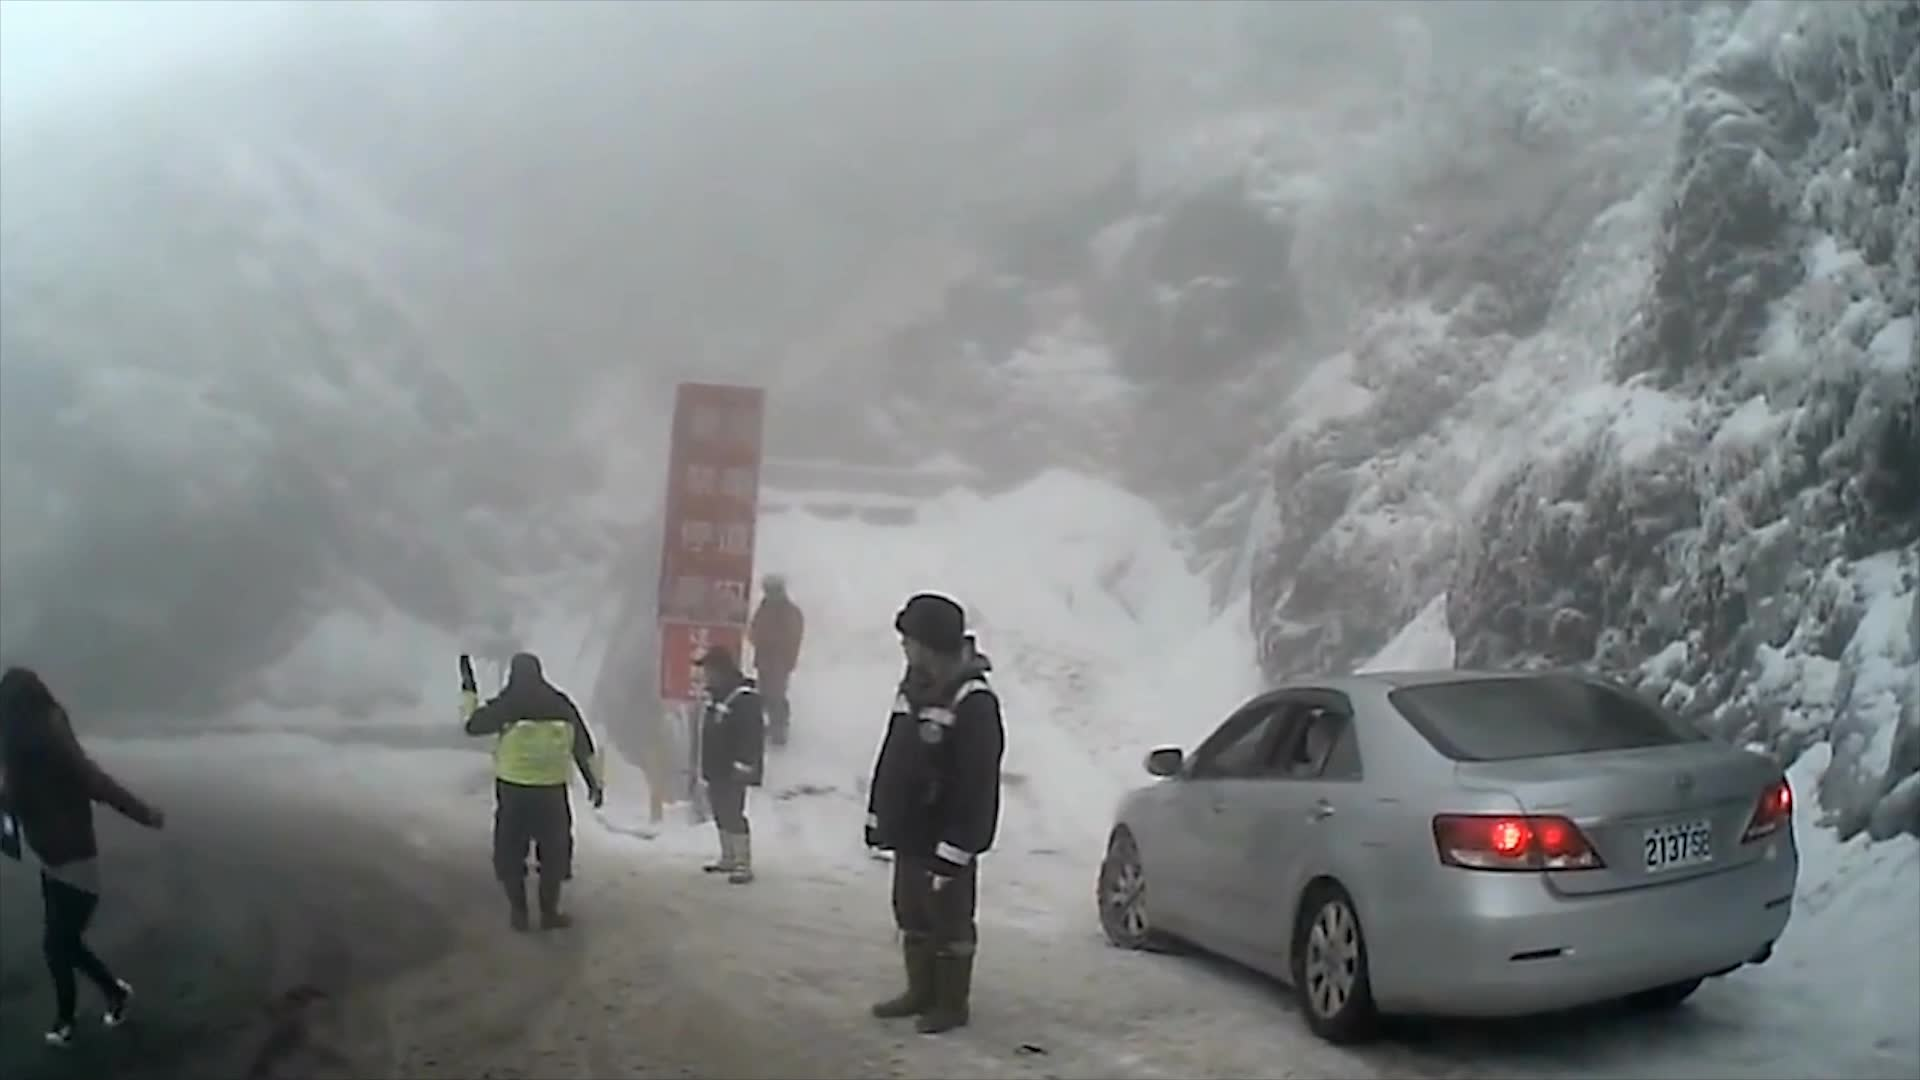pedestrian: (860, 596, 1005, 1037), (1, 665, 162, 1060), (438, 662, 598, 937), (687, 649, 769, 889), (743, 569, 810, 748)
vehicle: (1095, 664, 1798, 1041)
